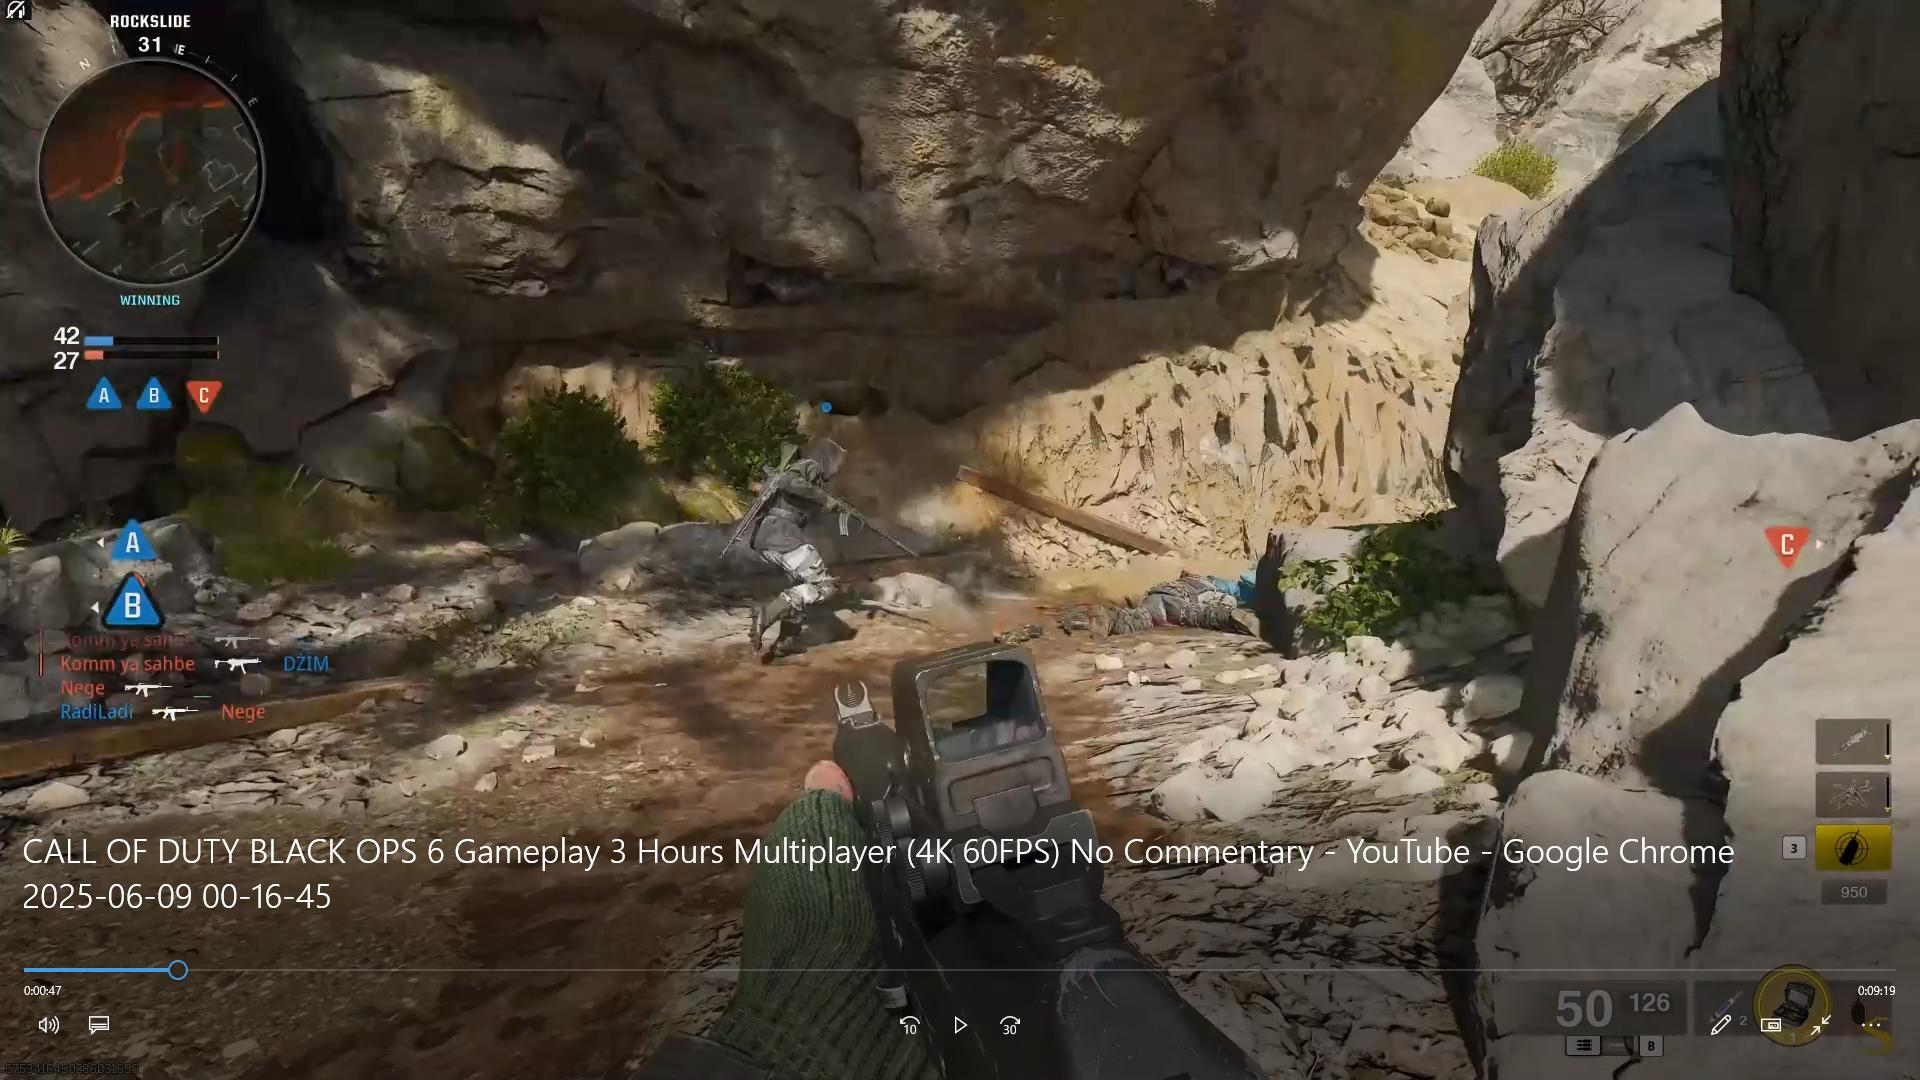Enemy: (723, 423, 866, 658)
